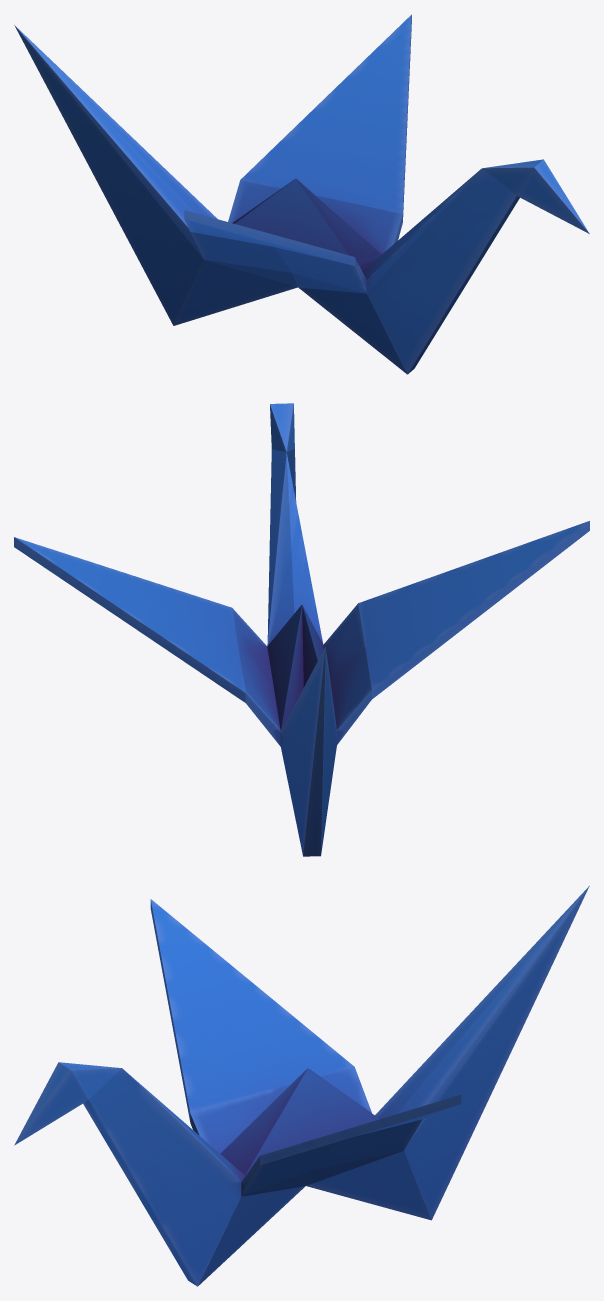
File: Paper.FBX
3 views of the same model, one above another, from view 1: azimuth 30°, elevation 25°; view 2: azimuth 150°, elevation 25°; view 3: azimuth 270°, elevation 25° (orthographic). The views are drawn at different scales.
Visible parts, largest first — view 1: Acc_Paper; view 2: Acc_Paper; view 3: Acc_Paper.
Boxes of the visible parts, x1,y1,x2,y2 form: Acc_Paper: (14, 14, 589, 374); Acc_Paper: (14, 403, 589, 856); Acc_Paper: (14, 885, 589, 1286).
Bounding box in the file's own units: 159 × 108 × 198.
